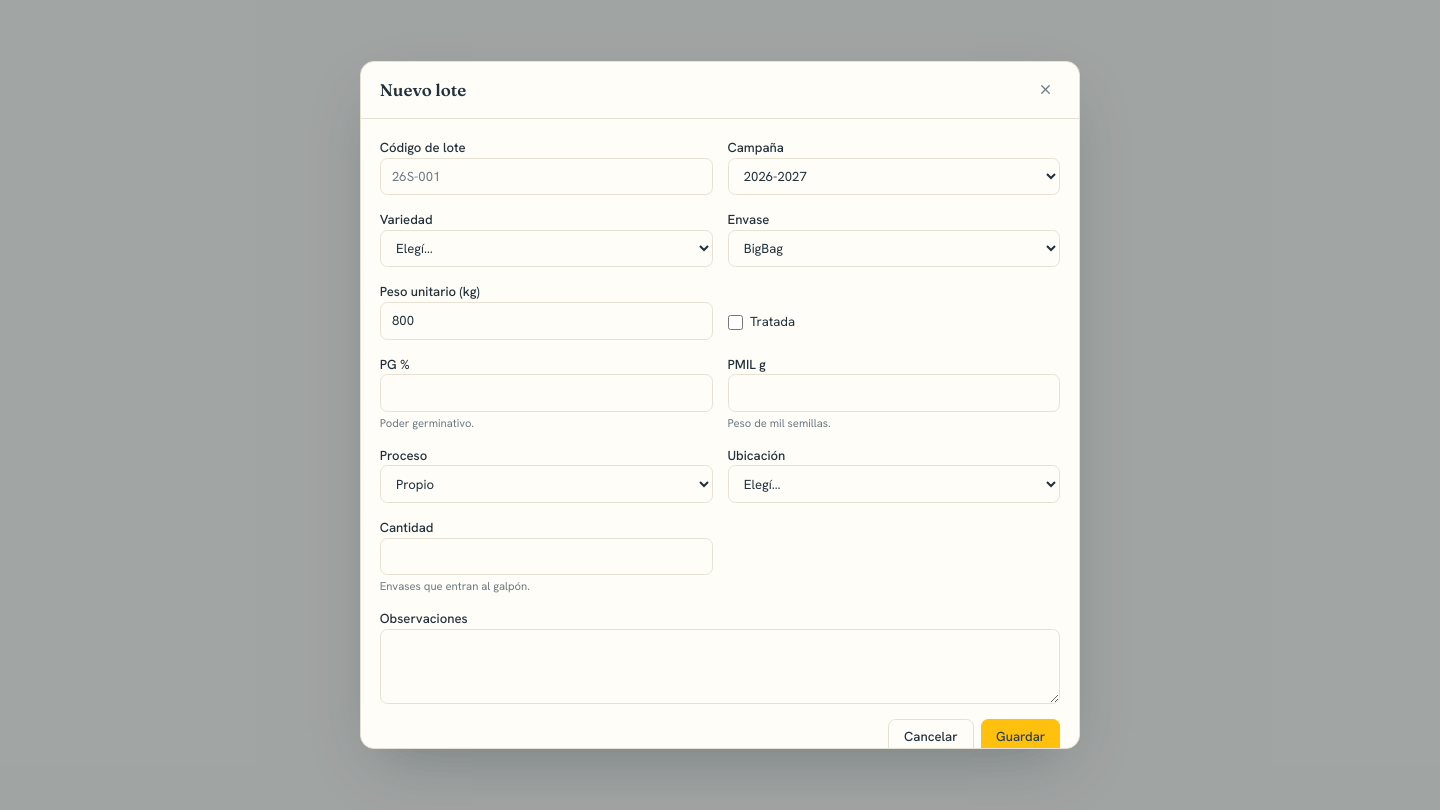
Test: LoteDialog › el alta con dueño Cliente exige elegir un cliente antes de guardar
Type "26S-002" into the field labelled "Código de lote" at [546, 176], box [380,158,713,195]
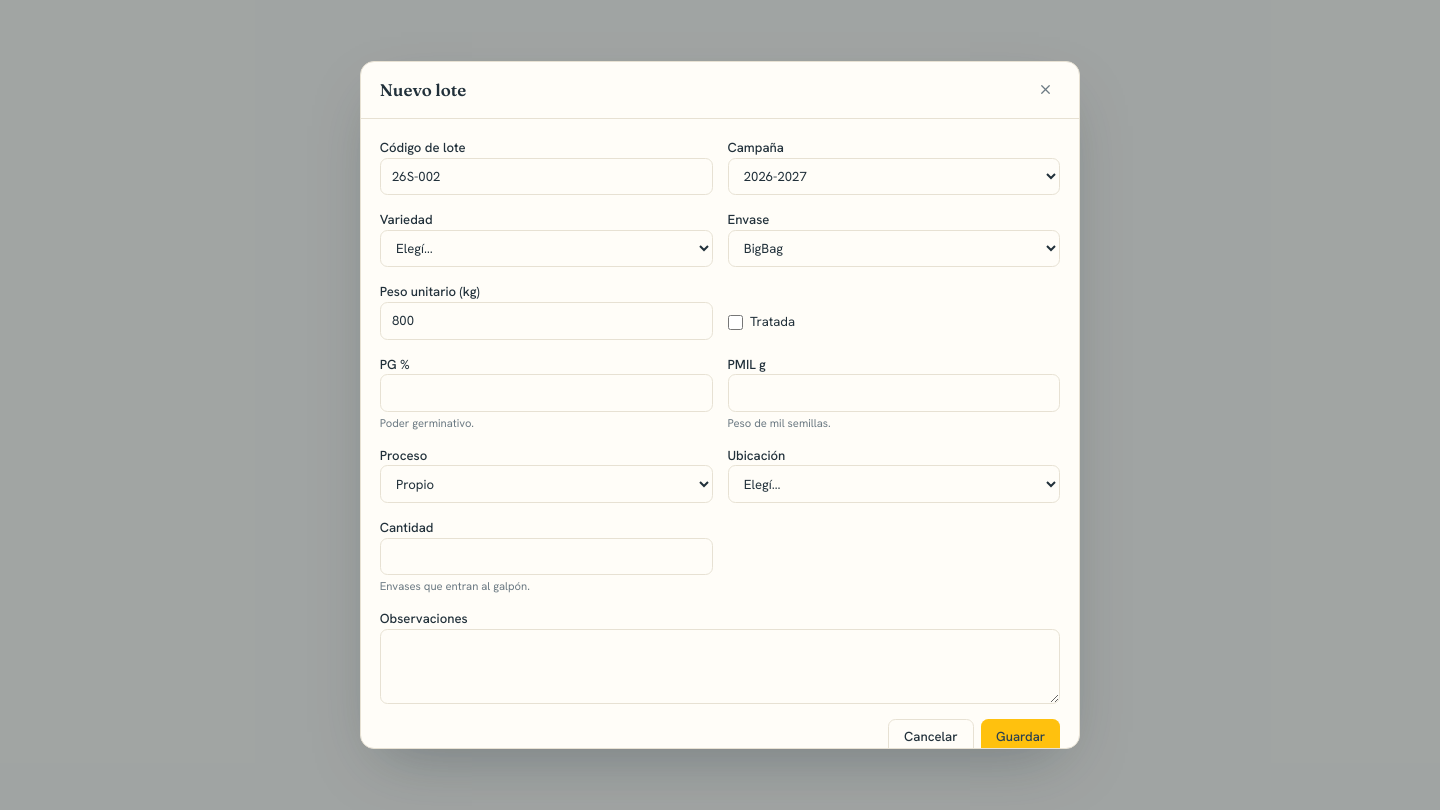
Select "DM 46E25" in the dropdown labelled "Variedad" at [546, 249], box [380,230,713,267]
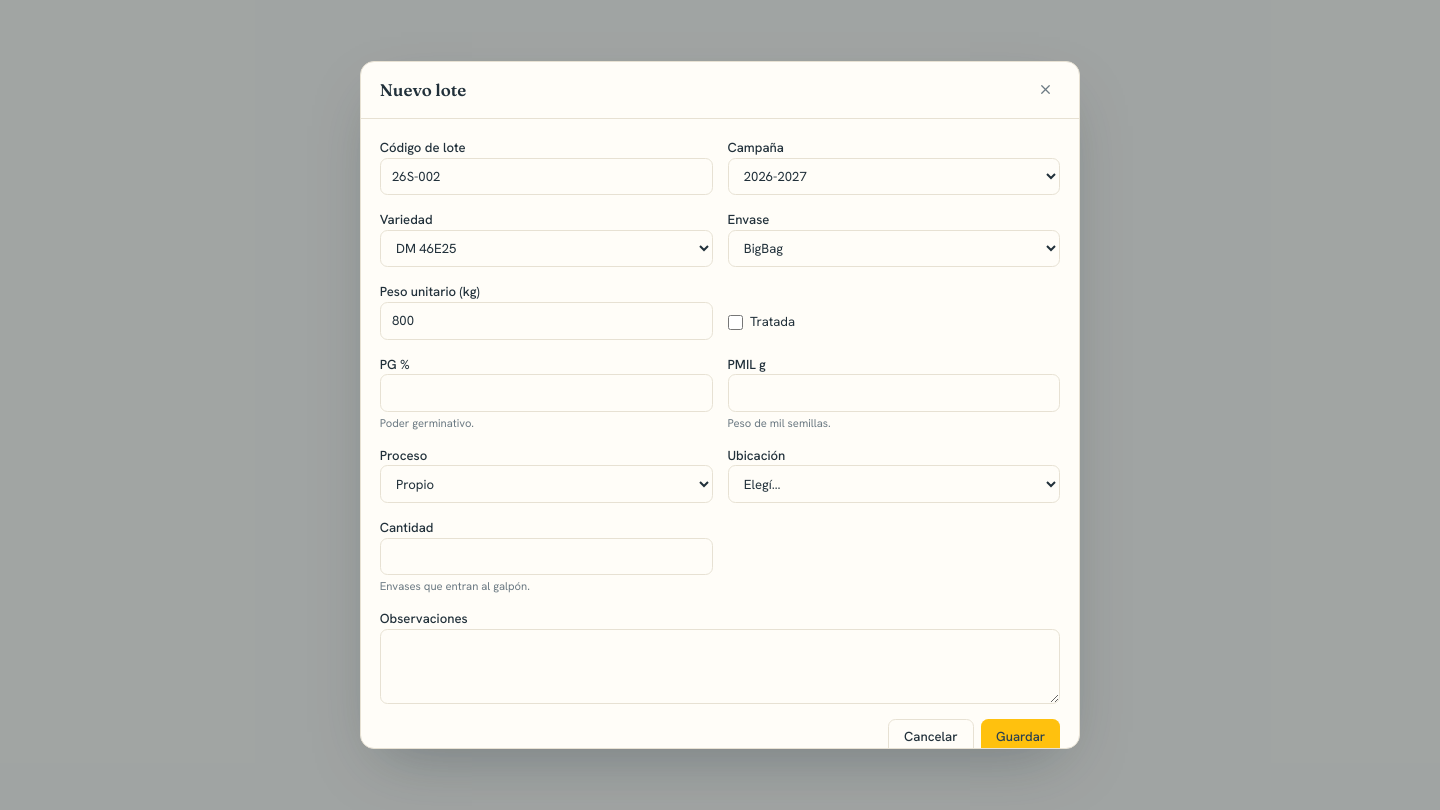
Select "G1-6" in the dropdown labelled "Ubicación" at [894, 484], box [728,465,1060,503]
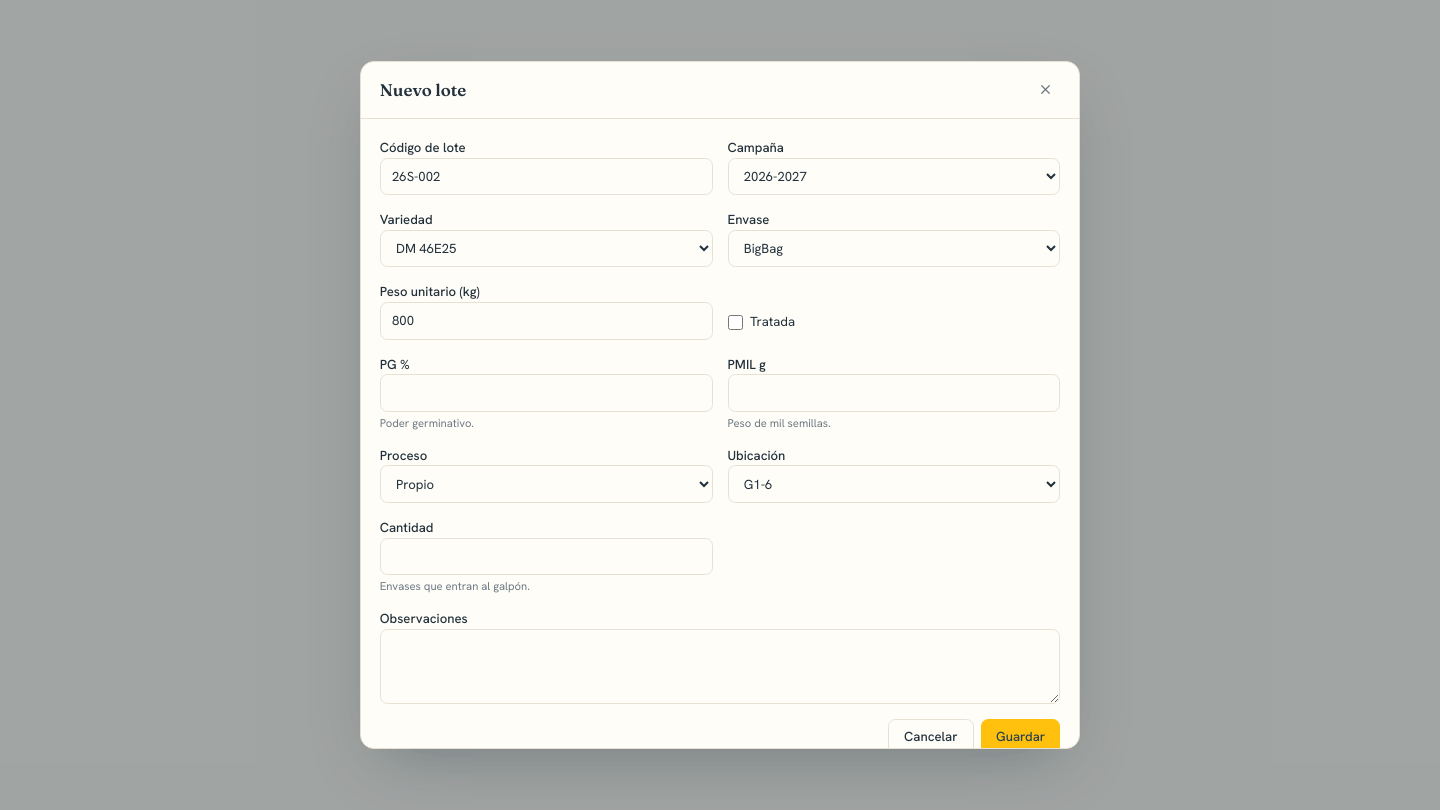
Type "10" into the number field labelled "Cantidad" at [546, 556], box [380,538,713,575]
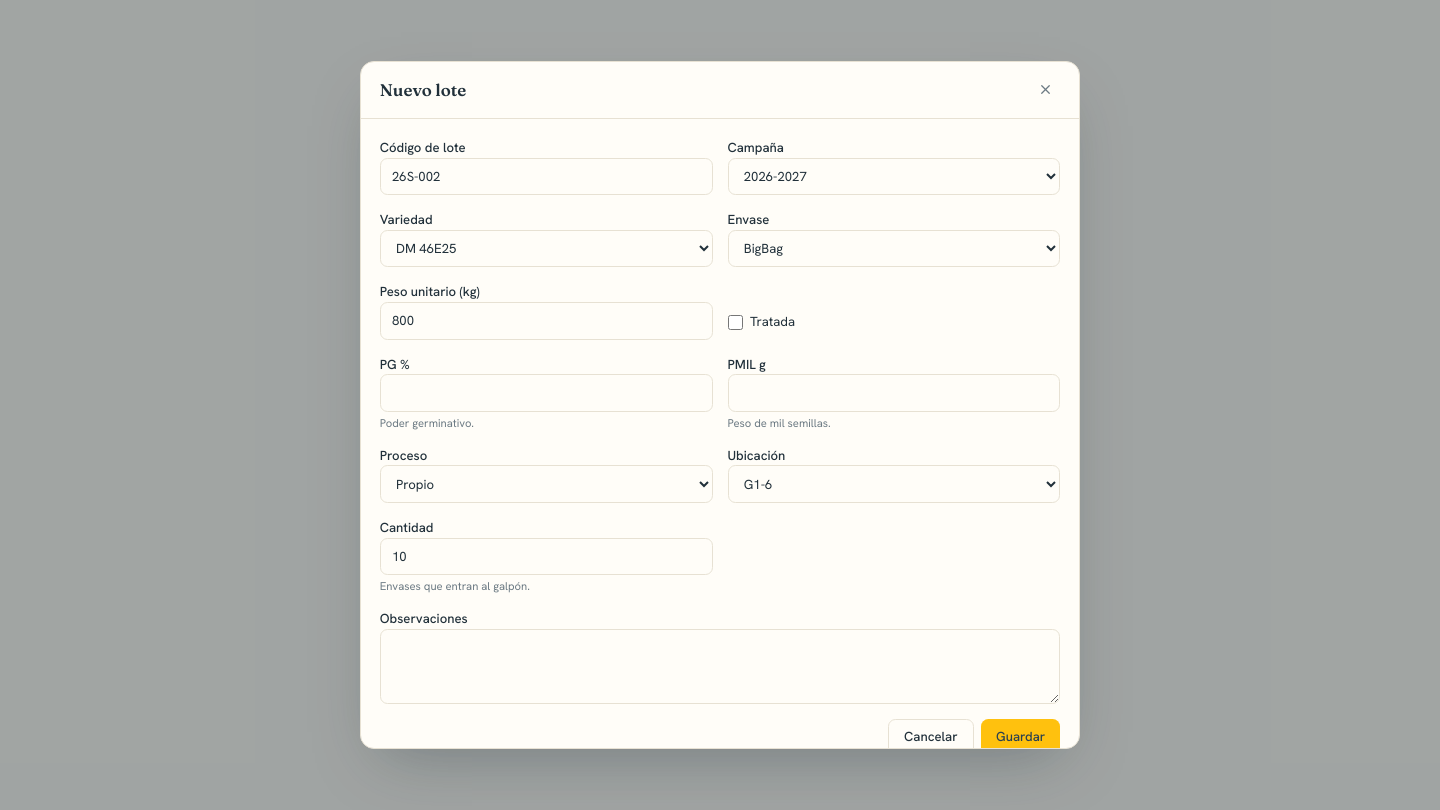
Select "Cliente" in the dropdown labelled "Proceso" at [546, 484], box [380,465,713,503]
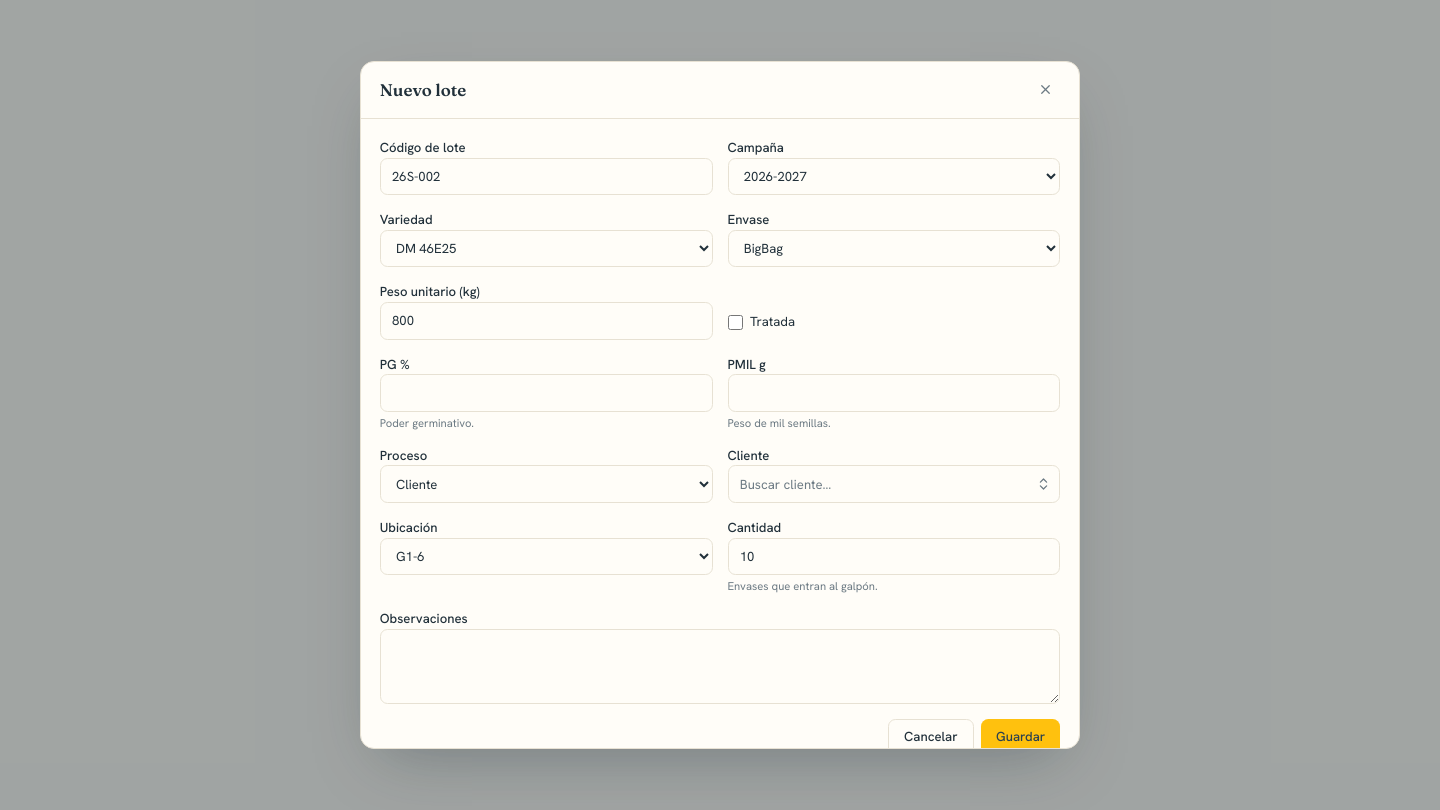
Click the button "Guardar" at [1021, 737], box [981,718,1060,756]
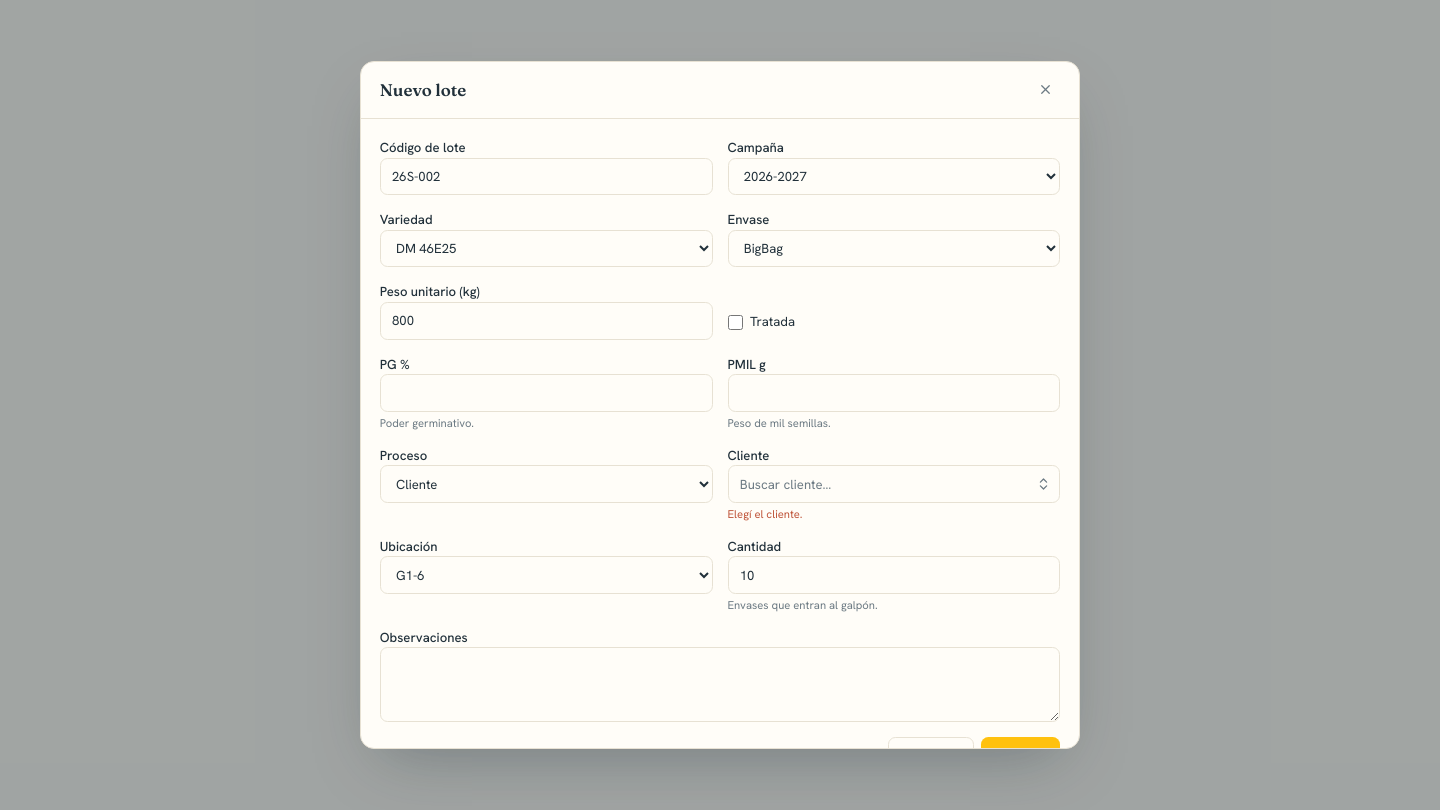
Expected: the text "Elegí el cliente." is shown, [728,506,802,520]
